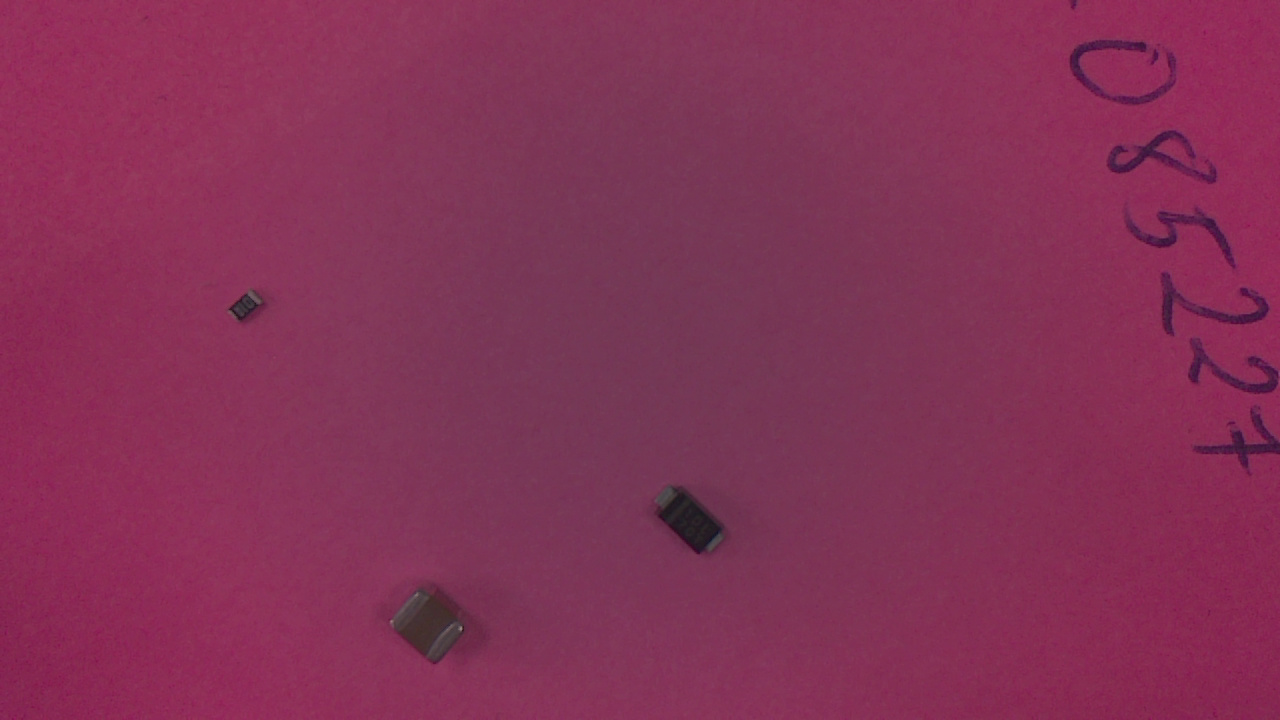Condensator: (390, 590, 474, 670)
Diode: (654, 487, 736, 563)
Resistor: (232, 291, 269, 328)
